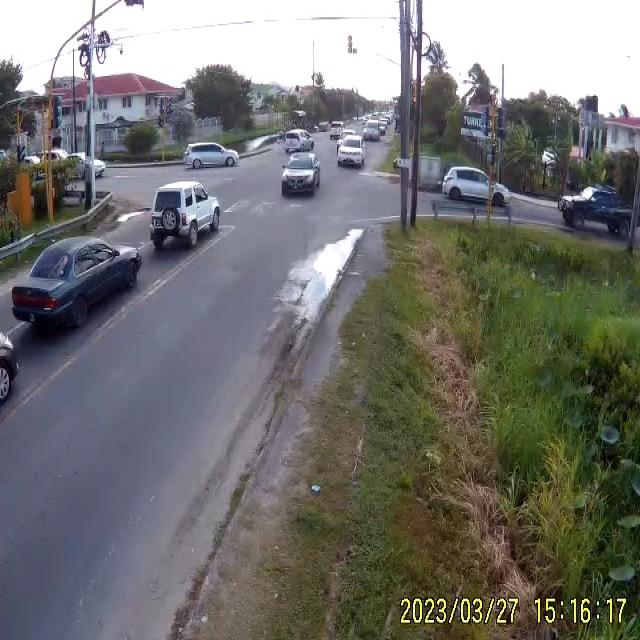car: (11, 236, 142, 334), (150, 181, 222, 250), (562, 188, 630, 234), (442, 168, 506, 206), (282, 154, 320, 197), (182, 143, 239, 170), (338, 138, 366, 171), (282, 130, 312, 153), (362, 127, 380, 142)
